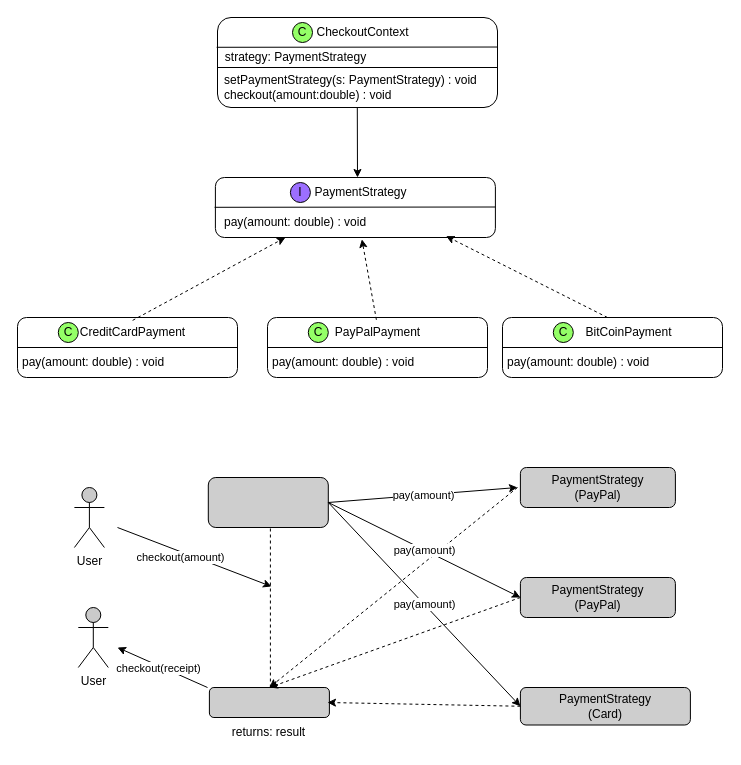
The diagram is 741 pixels wide and 765 high, and some of its shapes have lost their labels. The shapes that lost their labels are listed below. From the top down, each one's box as (x1, y1, x2, y2) in pixels, then its label:
(207, 476, 328, 528): CheckoutContext (On sends to specfic strategy)
(208, 686, 329, 718): CheckoutContext (On return resolver)
